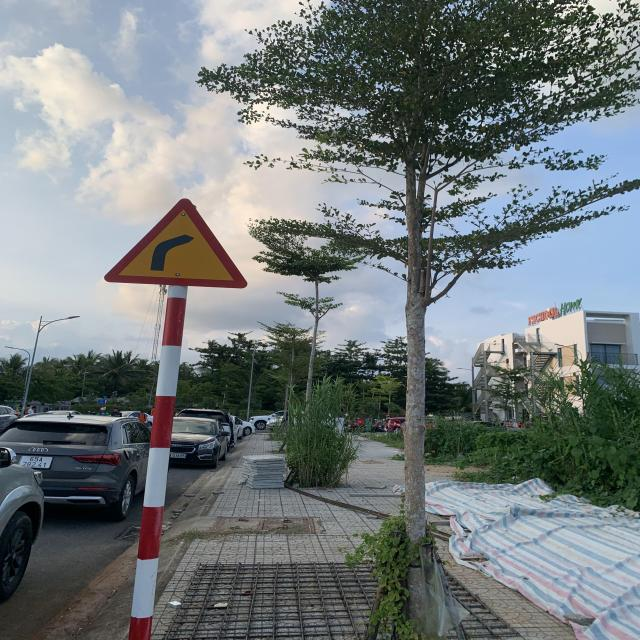Duong_Nguoi_Di_Bo_Cat_Ngang: (101, 197, 251, 288)
